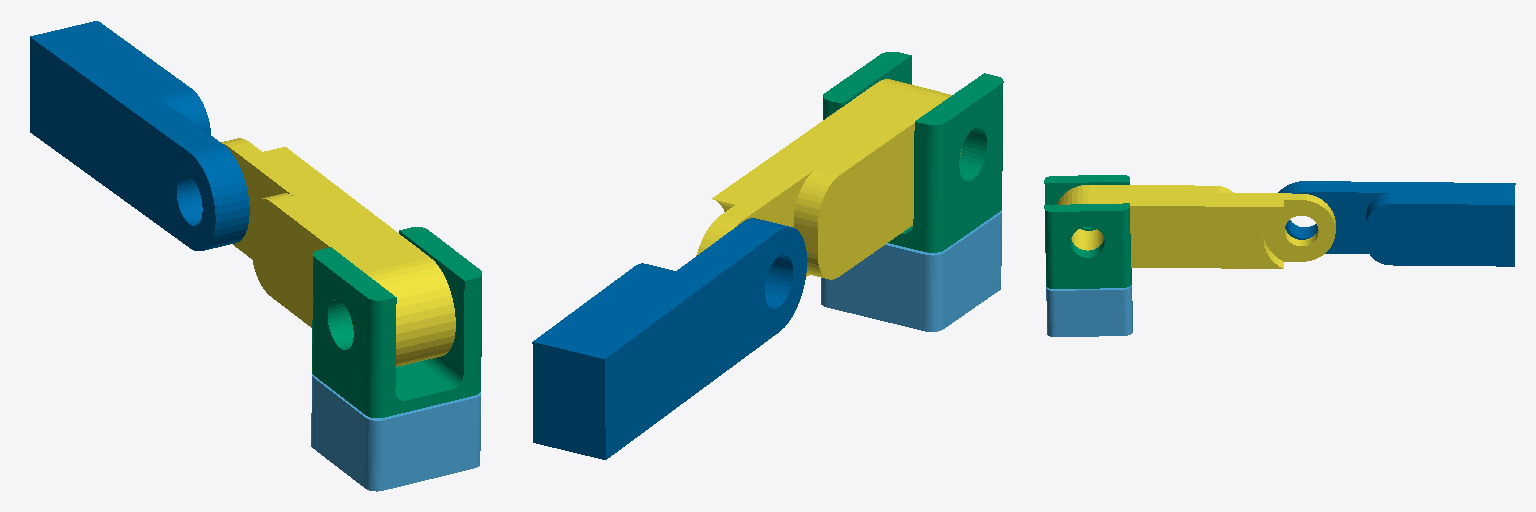
The robot description file, URDF, robot "robot_arm":
<?xml version="1.0"?>

<robot name = "robot_arm">

    <link name="world"/>

    <link name ="base_link">

        <visual>
            <origin xyz = "-0.05 -0.05 0.06" rpy = "-1.55 0 0"/>
            <geometry>
                <mesh filename = "package://robot_arm/meshes/BaseHousing.STL" scale="0.001 0.001 0.001"/>
            </geometry>
        </visual>

        <collision>
            <origin xyz = "-0.05 -0.05 0.06" rpy = "-1.55 0 0"/>
            <geometry>
                <mesh filename = "package://robot_arm/meshes/BaseHousing.STL" scale="0.001 0.001 0.001"/>
            </geometry>
        </collision>

        <inertial>

            <origin xyz="-0.000210 0.000599 0.037967" rpy="-1.55 0 0"/>
            <mass value="0.07742"/>
            <inertia ixx="0.000131651" ixy="0" ixz="0"
                     iyy="0.000205327" iyz="0"
                     izz="0.000132801"/>

        </inertial>
        
    </link>

    <joint name ="world_to_base" type="fixed">

        <parent link="world"/>
        <child link="base_link"/>
        <origin xyz="0 0 0" rpy="0 0 0"/>
        
    </joint>

    <link name="rotation_link">
        <visual>
            <origin xyz="-0.05 -0.052 0.162" rpy="-1.55 0 0"/>
            <geometry>
                <mesh filename="package://robot_arm/meshes/rotation.STL"
                    scale="0.001 0.001 0.001"/>
            </geometry>
        </visual>

        <collision>
            <origin xyz="-0.05 -0.052 0.162" rpy="-1.55 0 0"/>
            <geometry>
                <mesh filename="package://robot_arm/meshes/rotation.STL"
                    scale="0.001 0.001 0.001"/>
            </geometry>
        </collision>

        <inertial>
            <origin xyz="-0.000210000 -0.000130265 0.105326367"
                    rpy="-1.55 0 0"/>
            <mass value="0.12876"/>
            <inertia ixx="0.000261618" ixy="0" ixz="0"
                    iyy="0.000303460" iyz="0"
                    izz="0.000321808"/>
        </inertial>
    </link>

    <joint name="joint_1" type="continuous">
        <origin xyz="0 0 0" rpy="0 0 0"/>
        <parent link = "base_link"/>
        <child link = "rotation_link"/>
        <axis xyz = "0 0 1"/>
        <limit effort="5.0" velocity="1.0"/>
        <dynamics damping="0.1" friction="0.0"/>
    </joint>

    <link name="biceps_link">
        <visual>
            <origin xyz = "-0.023 0.29 -0.039" rpy="0 0 -1.59"/>
            <geometry>
                <mesh filename="package://robot_arm/meshes/biceps.STL"
                    scale = "0.001 0.001 0.001"/>
            </geometry>
        </visual>

        <collision>
            <origin xyz = "-0.023 0.29 -0.039" rpy="0 0 -1.59"/>
            <geometry>
                <mesh filename="package://robot_arm/meshes/biceps.STL"
                    scale = "0.001 0.001 0.001"/>
            </geometry>
        </collision>

        <inertial>
            <origin xyz="0.003339057 0.102743068 0.001920000"
                    rpy="0 0 -1.59"/>
            <mass value="0.27575"/>
            <inertia ixx="0.000255695" ixy="0" ixz="0"
                    iyy="0.001998483" iyz="0"
                    izz="0.001912020"/>
        </inertial>
    </link>

    <joint name="joint_2" type ="revolute">
        <origin xyz= "0 0 0.12" rpy = "0 0 0"/>
        <parent link = "rotation_link"/>
        <child link = "biceps_link"/>
        <axis xyz = "1 0 0"/>
        <limit lower = "0" upper = "3.141593" effort = "5.0" velocity = "1.0"/>
        <dynamics damping="0.1" friction="0.0"/>

    </joint>

    <link name = "vorarm_link">
        <visual>
            <origin xyz = "-0.035 0.25 0.04" rpy = "1.566 3.15 1.566"/>
            <geometry>
                <mesh filename="package://robot_arm/meshes/vorarm.STL"
                    scale = "0.001 0.001 0.001"/>
            </geometry>
        </visual>

        <collision>
            <origin xyz = "-0.035 0.25 0.04" rpy = "1.566 3.15 1.566"/>
            <geometry>
                <mesh filename="package://robot_arm/meshes/vorarm.STL"
                    scale = "0.001 0.001 0.001"/>
            </geometry>
        </collision>

        <inertial>
            <origin xyz="-0.008400369 0.131259611 0.001075051"
                    rpy="1.566 3.15 1.566"/>
            <mass value="0.25673"/>
            <inertia ixx="0.000245497" ixy="0" ixz="0"
                    iyy="0.001580958" iyz="0"
                    izz="0.001649582"/>
        </inertial>
        
    </link>

    <joint name="joint_3" type ="revolute">
        <origin xyz= "0 0.25 0" rpy = "0 0 0"/>
        <parent link = "biceps_link"/>
        <child link = "vorarm_link"/>
        <axis xyz = "1 0 0"/>
        <limit lower = "-2.2" upper = "2.2" effort = "5.0" velocity = "1.0"/>
        <dynamics damping="0.1" friction="0.0"/>

    </joint>

</robot>

--- Render facts (derived) ---
3 views of the same robot in one strip: view 1: azimuth 30°, elevation 25°; view 2: azimuth 150°, elevation 25°; view 3: azimuth 270°, elevation 25° (orthographic).
Robot: robot_arm — 5 links, 4 joints (2 revolute, 1 continuous, 1 fixed); root link world; default pose: all joints at 0.
Visible links, largest first — view 1: vorarm_link, biceps_link, rotation_link, base_link; view 2: vorarm_link, biceps_link, rotation_link, base_link; view 3: biceps_link, vorarm_link, rotation_link, base_link.
Link boxes in pixels (x1,y1,x2,y2): vorarm_link: (30, 21, 249, 250); biceps_link: (221, 138, 455, 366); rotation_link: (312, 227, 481, 417); base_link: (311, 374, 480, 491); vorarm_link: (532, 218, 806, 459); biceps_link: (696, 79, 961, 279); rotation_link: (823, 52, 1003, 252); base_link: (821, 210, 1001, 331); biceps_link: (1057, 185, 1335, 268); vorarm_link: (1278, 181, 1515, 266); rotation_link: (1044, 175, 1131, 288); base_link: (1046, 285, 1132, 336).
Bounding box of the posed robot: 0.1 × 0.552 × 0.1641 m (x, y, z).
4 mesh visuals loaded from 4 distinct referenced files (4 binary STL).
